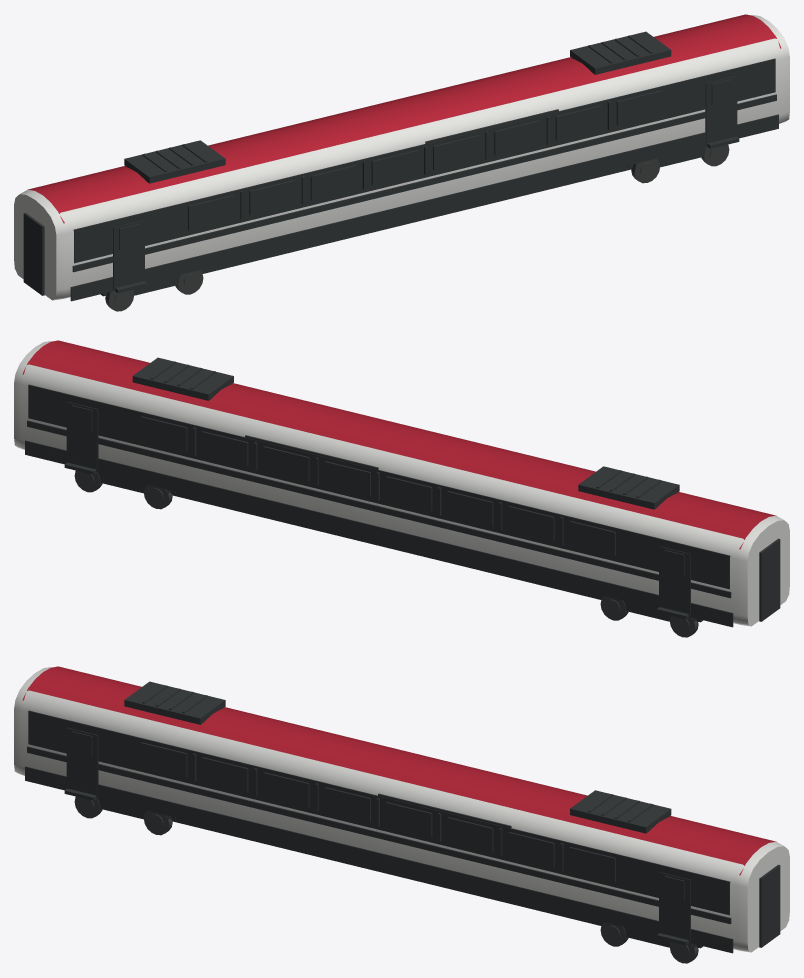
Rendered from railjet-classic-first.glb.
The picture shows the model from 3 angles, top to bottom: view 1: azimuth 30°, elevation 25°; view 2: azimuth 150°, elevation 25°; view 3: azimuth 330°, elevation 25°; orthographic projection.
Visible parts, largest first — view 1: railjet_first_lofted_body, first_red_roof, first_window_band_-1, first_lower_skirt_-1, first_red_belt_-1, first_hvac_0, first_hvac_1, first_underframe_spine, first_door_-1_1, gangway_1.002, first_door_-1_0, first_window_-1_1 (+9 smaller); view 2: railjet_first_lofted_body, first_red_roof, first_window_band_1, first_lower_skirt_1, first_red_belt_1, first_hvac_0, first_hvac_1, first_underframe_spine, first_door_1_1, gangway_1.002, first_door_1_0, first_bogie_b (+9 smaller); view 3: railjet_first_lofted_body, first_red_roof, first_window_band_-1, first_lower_skirt_-1, first_red_belt_-1, first_hvac_0, first_hvac_1, first_underframe_spine, first_door_-1_0, gangway_0.002, first_door_-1_1, first_window_-1_3 (+9 smaller).
Boxes of the visible parts, x1=… form: railjet_first_lofted_body: x1=14, y1=15, x2=789, y2=300; first_red_roof: x1=27, y1=14, x2=781, y2=223; first_window_band_-1: x1=73, y1=58, x2=775, y2=263; first_lower_skirt_-1: x1=70, y1=114, x2=778, y2=301; first_red_belt_-1: x1=72, y1=94, x2=776, y2=272; first_hvac_0: x1=124, y1=140, x2=225, y2=183; first_hvac_1: x1=570, y1=31, x2=671, y2=74; first_underframe_spine: x1=202, y1=165, x2=631, y2=273; first_door_-1_1: x1=705, y1=75, x2=737, y2=145; gangway_1.002: x1=23, y1=212, x2=44, y2=295; first_door_-1_0: x1=113, y1=220, x2=144, y2=290; first_window_-1_1: x1=249, y1=180, x2=295, y2=215; railjet_first_lofted_body: x1=14, y1=341, x2=789, y2=626; first_red_roof: x1=22, y1=340, x2=776, y2=549; first_window_band_1: x1=28, y1=384, x2=730, y2=589; first_lower_skirt_1: x1=25, y1=440, x2=733, y2=627; first_red_belt_1: x1=27, y1=420, x2=731, y2=598; first_hvac_0: x1=578, y1=466, x2=679, y2=509; first_hvac_1: x1=132, y1=357, x2=233, y2=400; first_underframe_spine: x1=172, y1=491, x2=601, y2=599; first_door_1_1: x1=66, y1=401, x2=98, y2=471; gangway_1.002: x1=759, y1=538, x2=780, y2=621; first_door_1_0: x1=659, y1=546, x2=690, y2=616; first_bogie_b: x1=74, y1=470, x2=172, y2=509; railjet_first_lofted_body: x1=14, y1=667, x2=789, y2=952; first_red_roof: x1=22, y1=666, x2=776, y2=875; first_window_band_-1: x1=28, y1=710, x2=730, y2=915; first_lower_skirt_-1: x1=25, y1=766, x2=733, y2=953; first_red_belt_-1: x1=27, y1=746, x2=731, y2=924; first_hvac_0: x1=124, y1=681, x2=225, y2=724; first_hvac_1: x1=570, y1=790, x2=671, y2=833; first_underframe_spine: x1=172, y1=817, x2=601, y2=925; first_door_-1_0: x1=66, y1=727, x2=98, y2=797; gangway_0.002: x1=759, y1=864, x2=780, y2=947; first_door_-1_1: x1=659, y1=872, x2=690, y2=942; first_window_-1_3: x1=324, y1=787, x2=370, y2=822.
Bounding box in the file's own units: 26.66 × 4.29 × 3.35.
